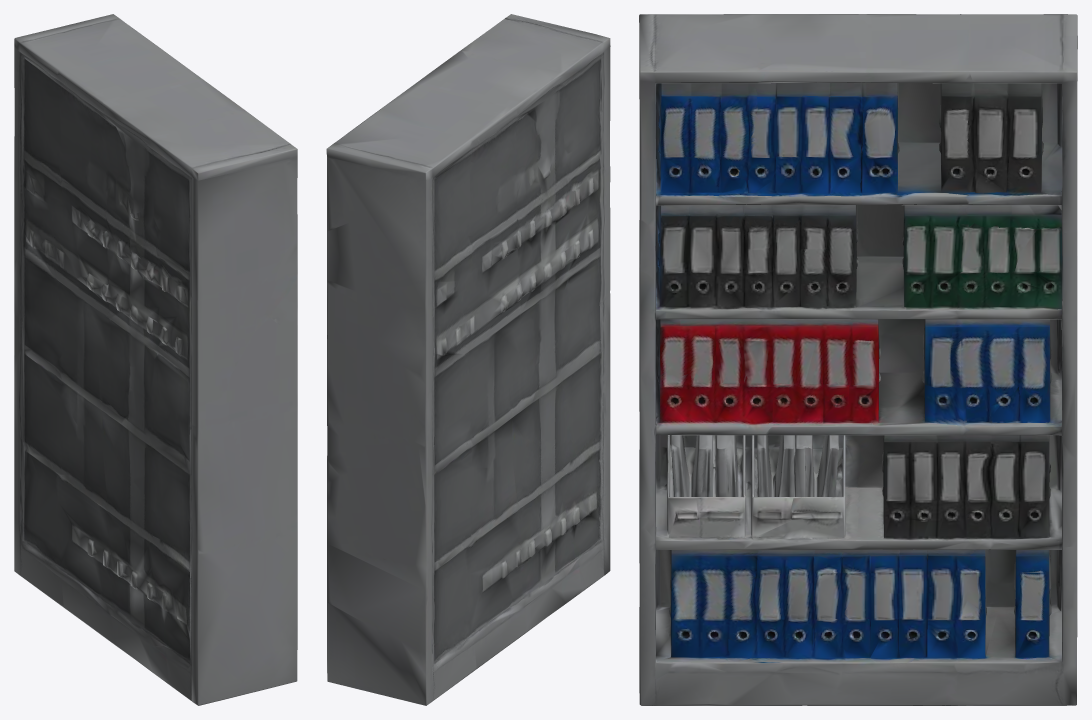
The model's file is filing-cabinet.glb.
3 renders of one model, left to right at view 1: azimuth 30°, elevation 25°; view 2: azimuth 150°, elevation 25°; view 3: azimuth 270°, elevation 25°, orthographic. The views are drawn at different scales.
Parts seen in each view (by area): view 1: aiprintgen_node_001dad67-42bb-49a9-912c-53a3b2496424; view 2: aiprintgen_node_001dad67-42bb-49a9-912c-53a3b2496424; view 3: aiprintgen_node_001dad67-42bb-49a9-912c-53a3b2496424.
Part boxes in pixels (x1,y1,x2,y2): aiprintgen_node_001dad67-42bb-49a9-912c-53a3b2496424: (14,14,297,705); aiprintgen_node_001dad67-42bb-49a9-912c-53a3b2496424: (326,14,610,705); aiprintgen_node_001dad67-42bb-49a9-912c-53a3b2496424: (639,14,1077,705).
Size of the model in its own units: 0.2028 by 0.9998 by 0.626.
1 material, 1 textured.
